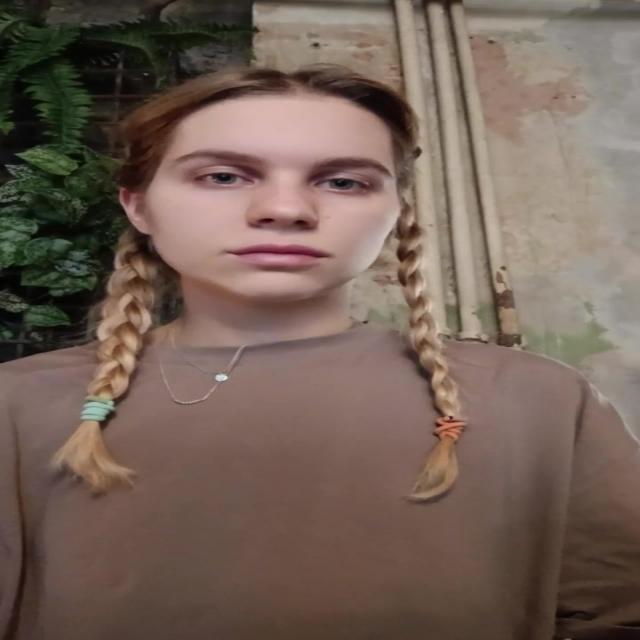earlobe: (131, 216, 154, 235)
eye: (195, 168, 251, 188), (318, 176, 372, 195)
nose: (248, 220, 314, 244)
wholeear: (117, 184, 155, 234)
